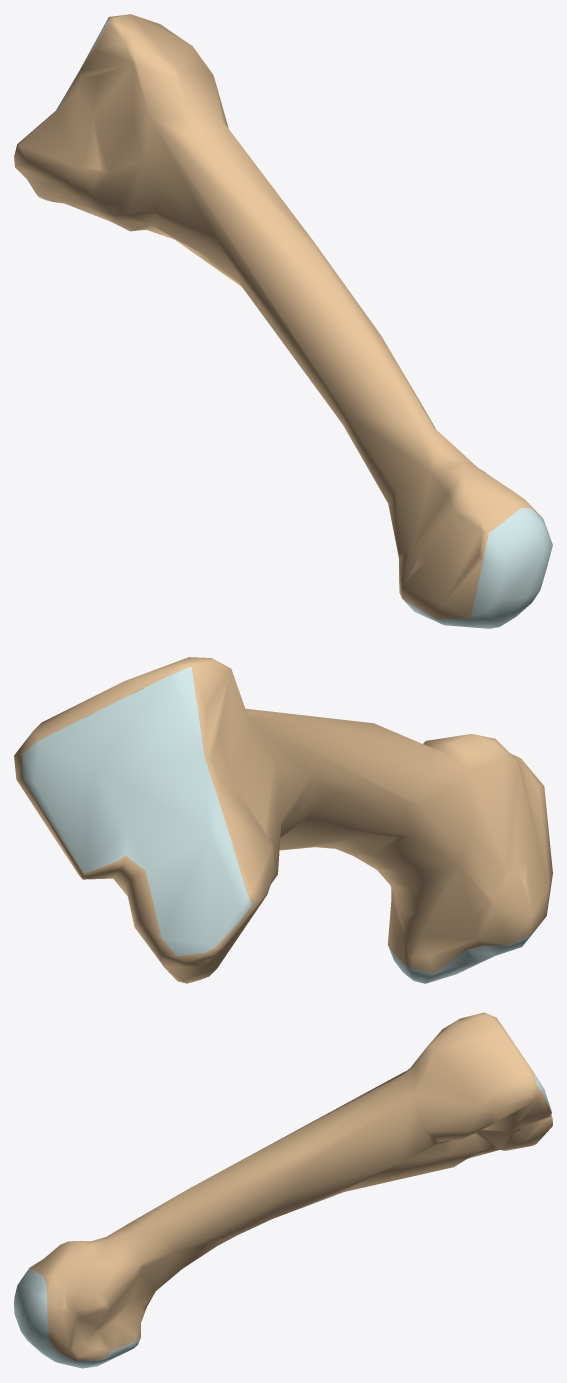
File: 3rd_metatarsal_bone.l_Generated_Mesh_From_X3D.929.glb
3 renders of one model, top to bottom at view 1: azimuth 30°, elevation 25°; view 2: azimuth 150°, elevation 25°; view 3: azimuth 270°, elevation 25°, orthographic. The views are drawn at different scales.
Parts seen in each view (by area): view 1: 3rd_metatarsal_bone.l_Generated_Mesh_From_X3D.929; view 2: 3rd_metatarsal_bone.l_Generated_Mesh_From_X3D.929; view 3: 3rd_metatarsal_bone.l_Generated_Mesh_From_X3D.929.
Boxes of the visible parts, x1,y1,x2,y2 form: 3rd_metatarsal_bone.l_Generated_Mesh_From_X3D.929: [14, 14, 552, 628]; 3rd_metatarsal_bone.l_Generated_Mesh_From_X3D.929: [14, 657, 552, 983]; 3rd_metatarsal_bone.l_Generated_Mesh_From_X3D.929: [14, 1012, 552, 1368].
Size of the model in its own units: 0.0231 by 0.0444 by 0.0678.
